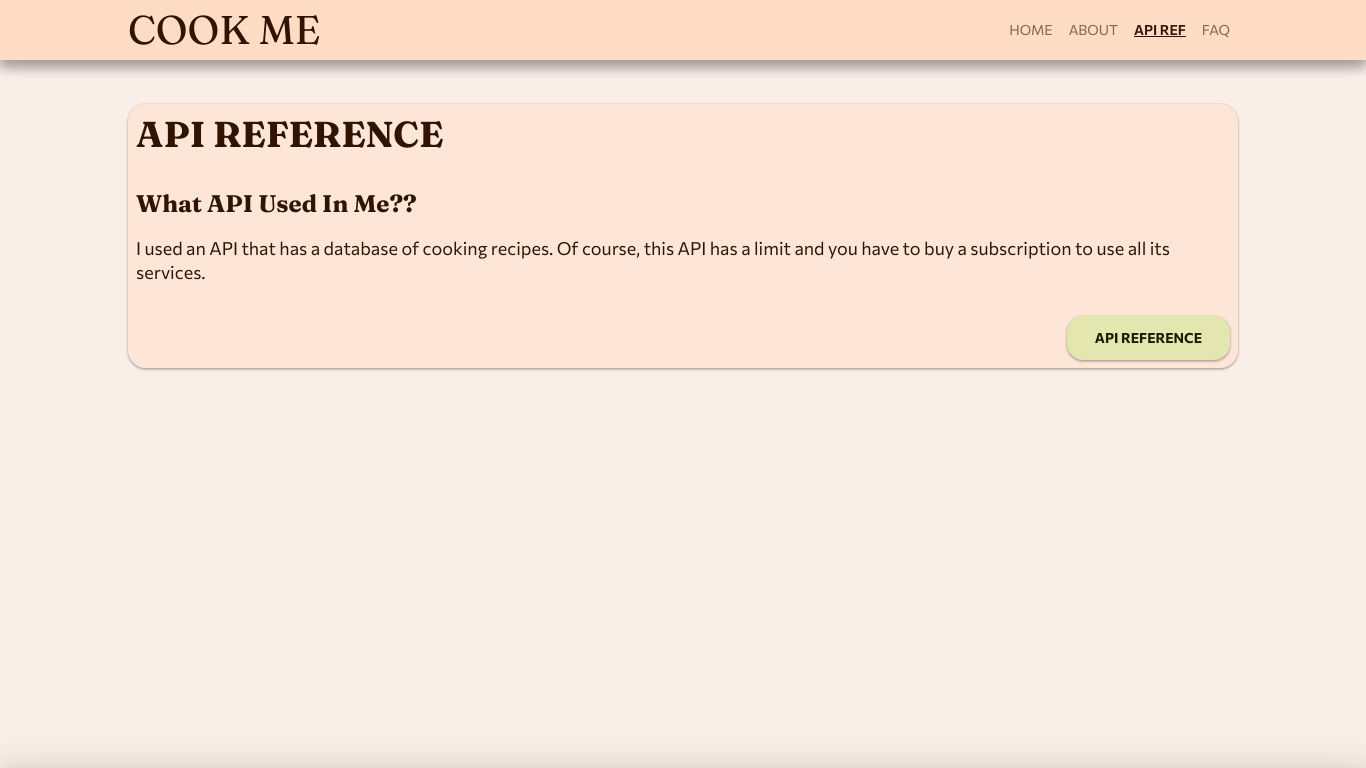
Navigation › go to Faq Page
The image size is (1366, 768).
Step 1. Click the link to "/faq" → (1216, 30), box [1194,20,1238,40]
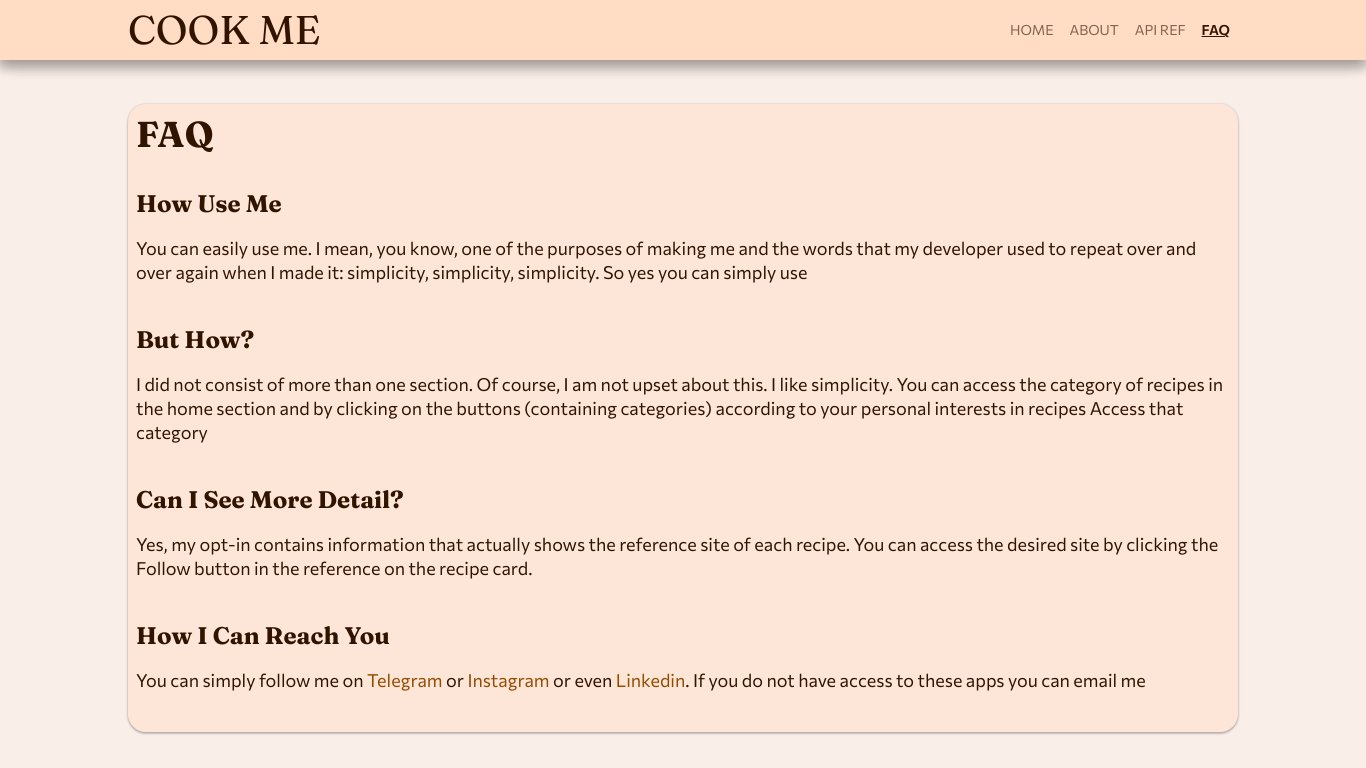
Check: the text with class "rare_data_con" reads "FAQ", box [136,112,213,156]
